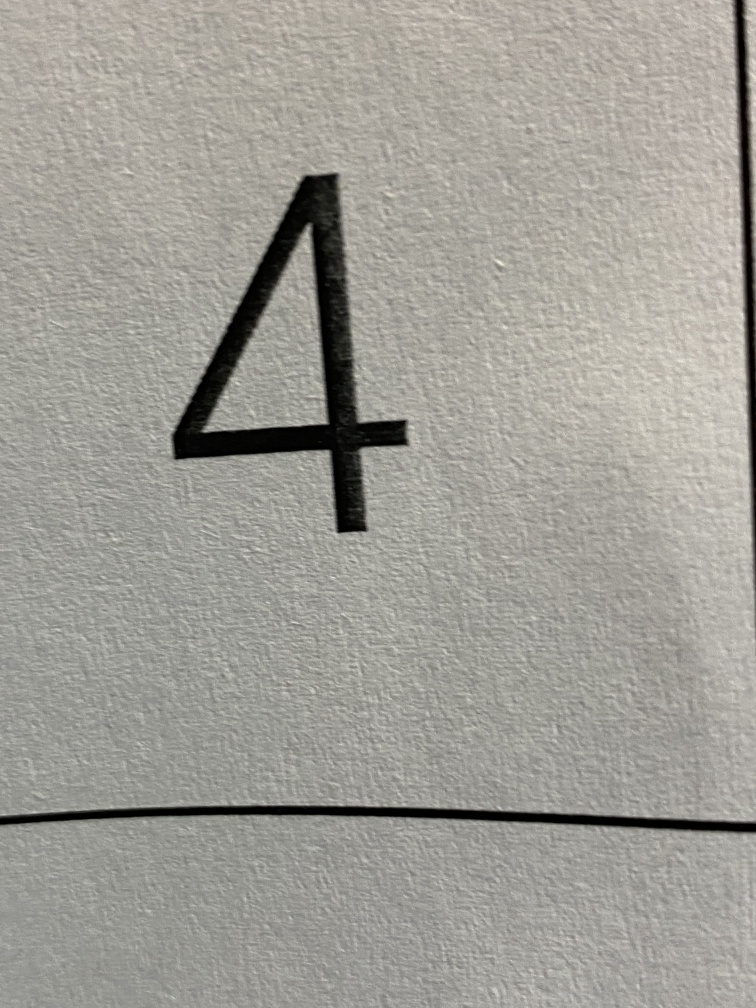four: (149, 127, 477, 610)
